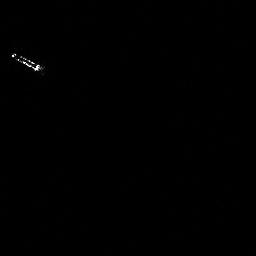ship: (11, 52, 42, 73)
